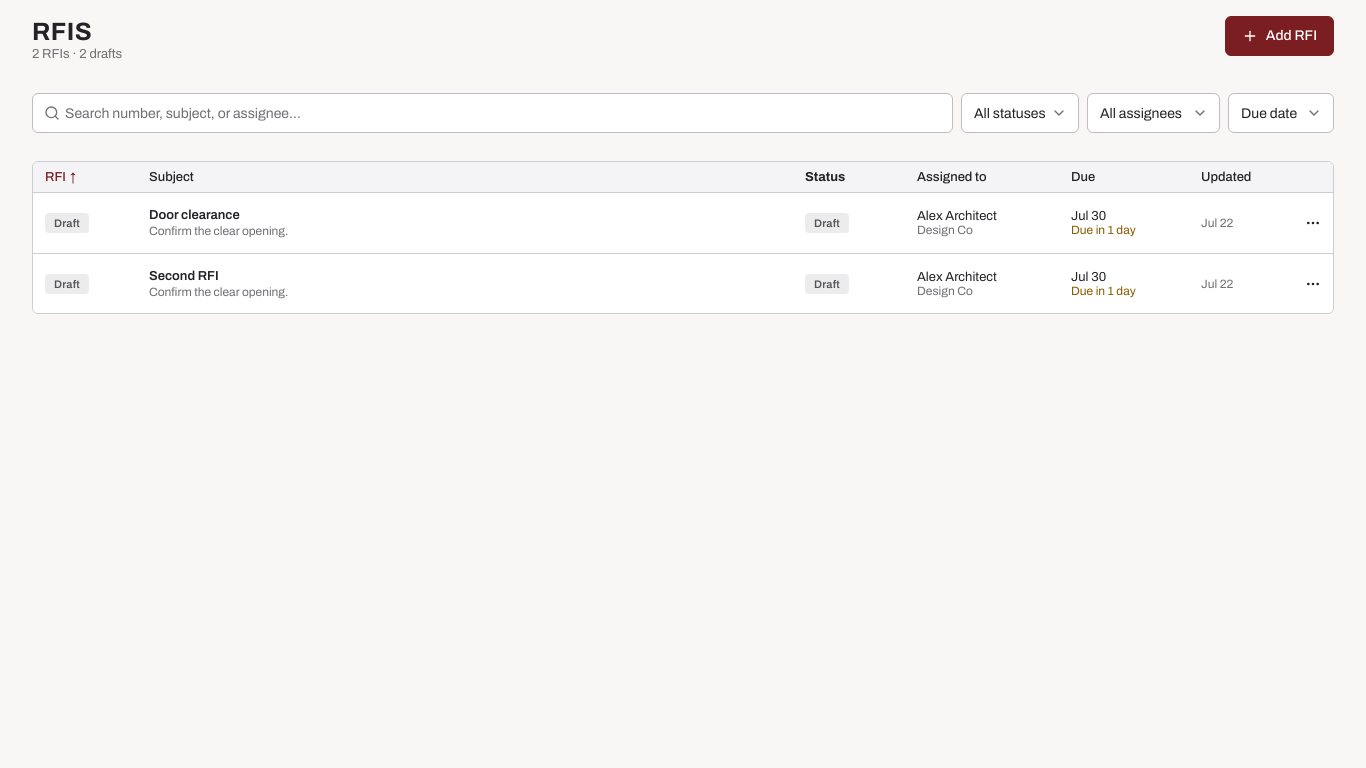
Test: native RFI register — expandable editor › opens one Drawer with every editable field and keeps references in the shared Collapsible
Check: the table is shown, box 33,162 -> 1333,313
Click the button "Door clearance" at x=194, y=215, box 149,208 -> 781,222
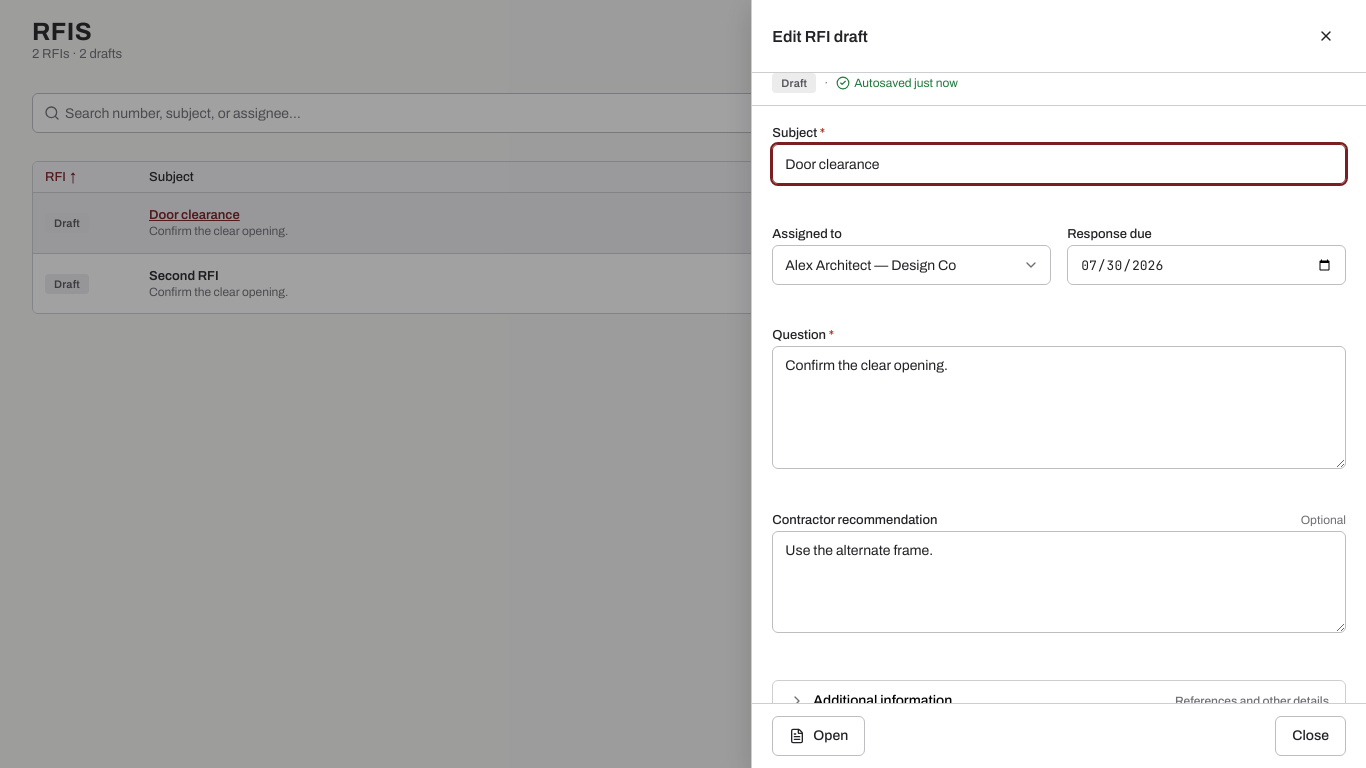
Check: the number of dialogs is 1, box 751,0 -> 1365,767
Click the button "Additional information References and other details" at x=883, y=701, box 773,681 -> 1345,721
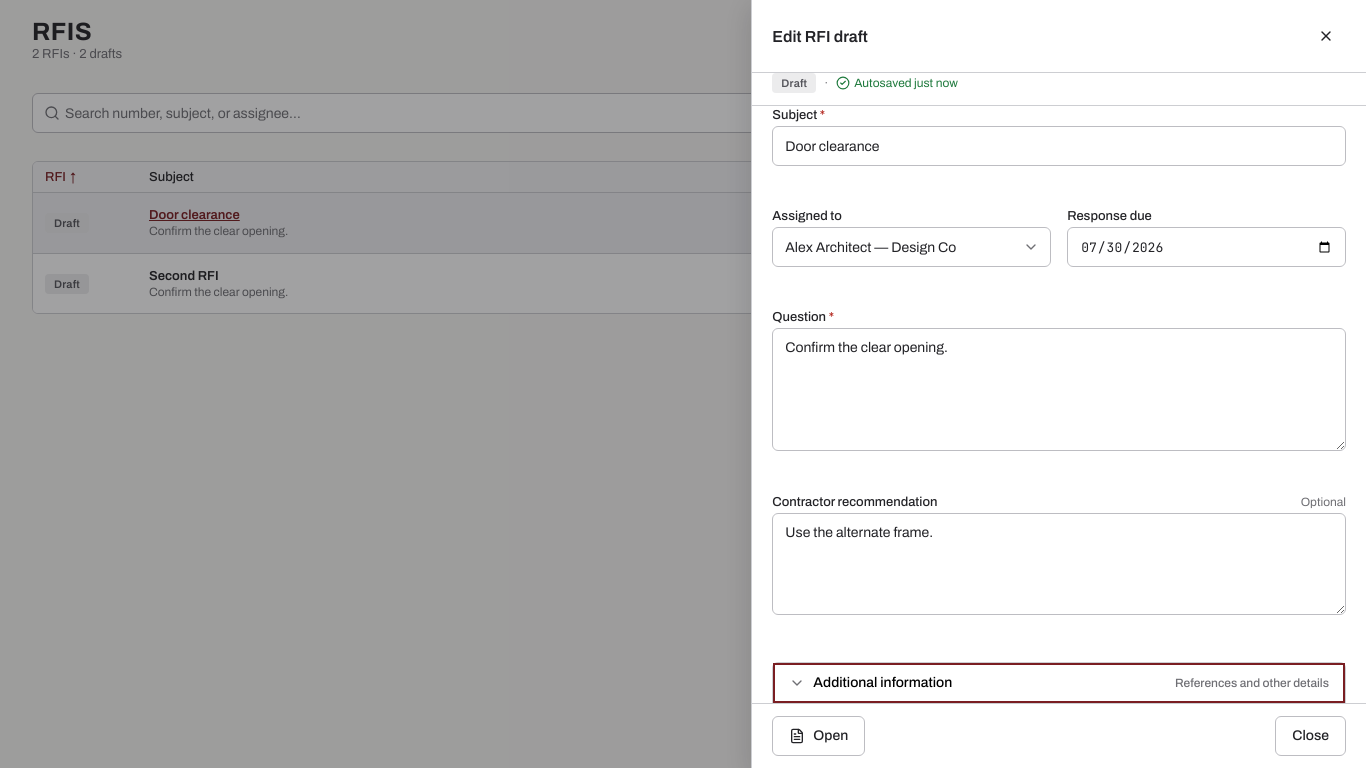
Click the button "Close" at x=1311, y=736, box 1275,716 -> 1346,756
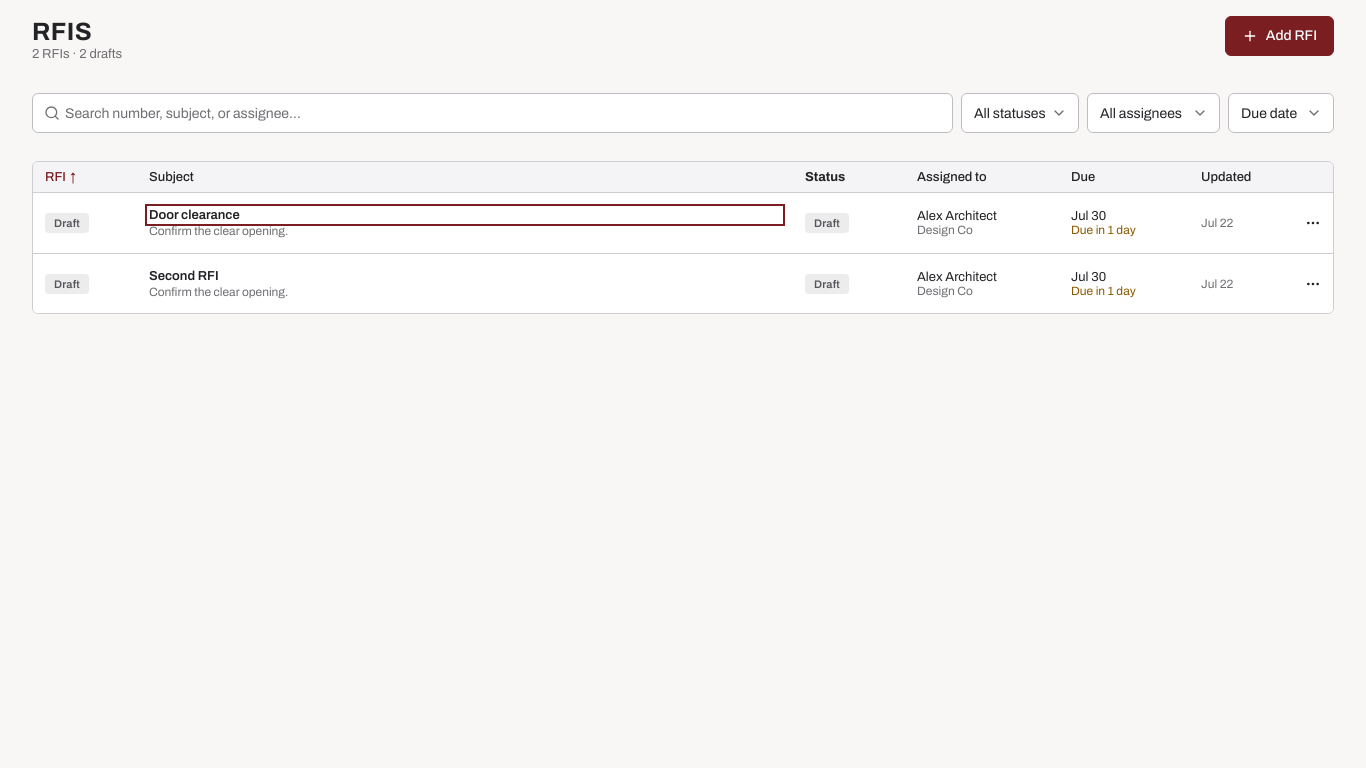
Click the button "Second RFI" at x=184, y=276, box 149,268 -> 781,282
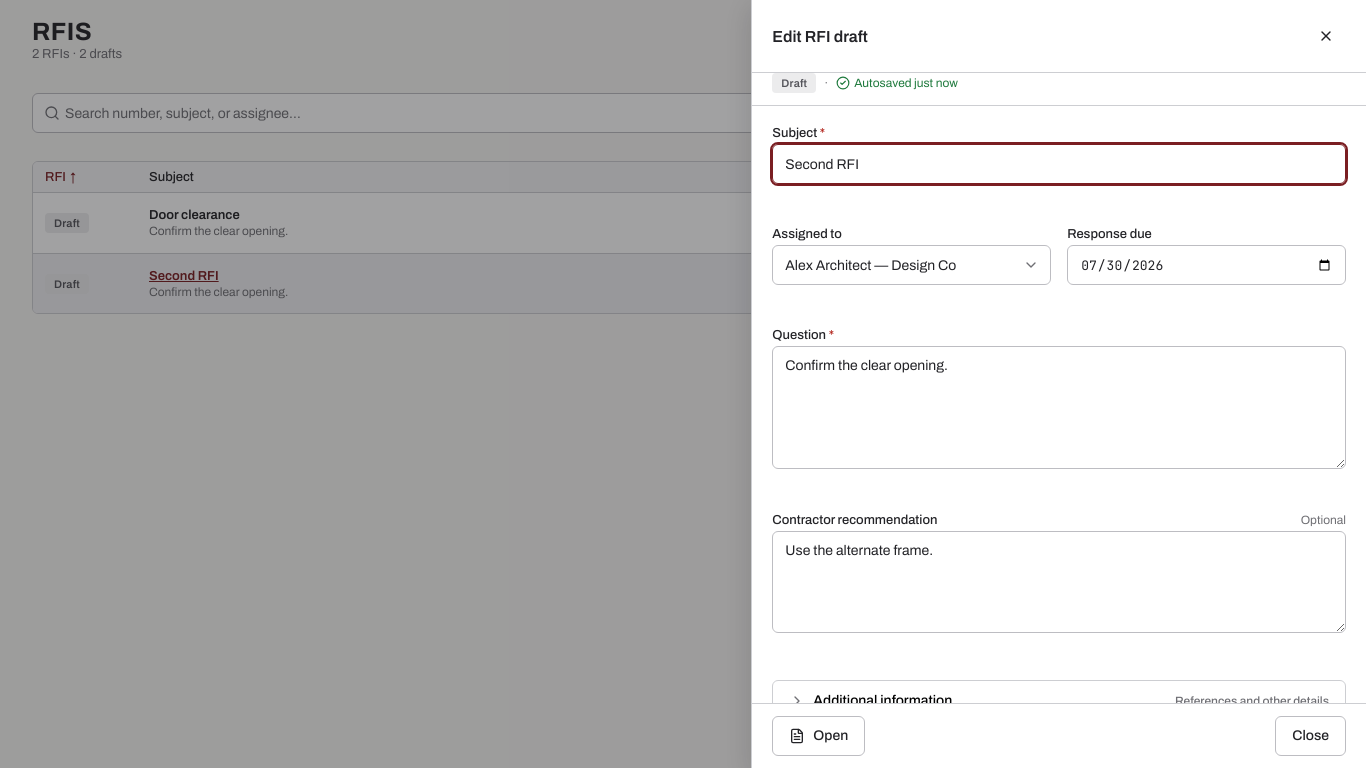
Check: the number of dialogs is 1, box 751,0 -> 1365,767
Check: the form is shown, box 752,73 -> 1365,767
